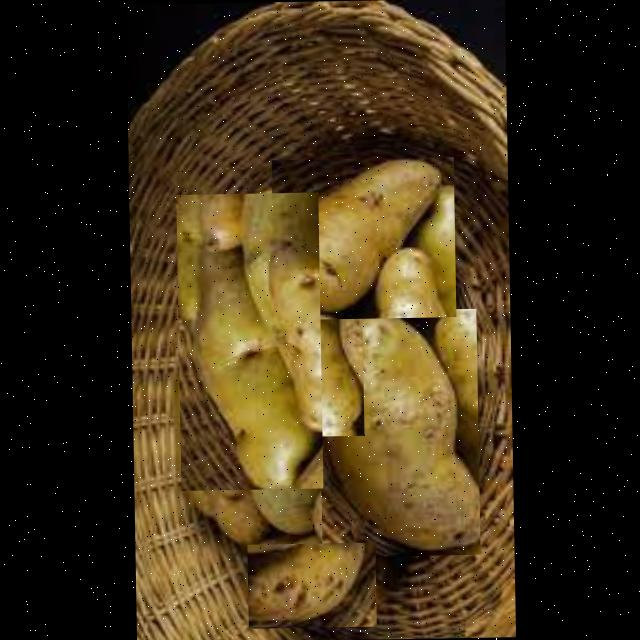Defected potato: (176, 191, 323, 489), (318, 307, 480, 556), (271, 156, 456, 318), (266, 302, 364, 436), (247, 541, 376, 627)
